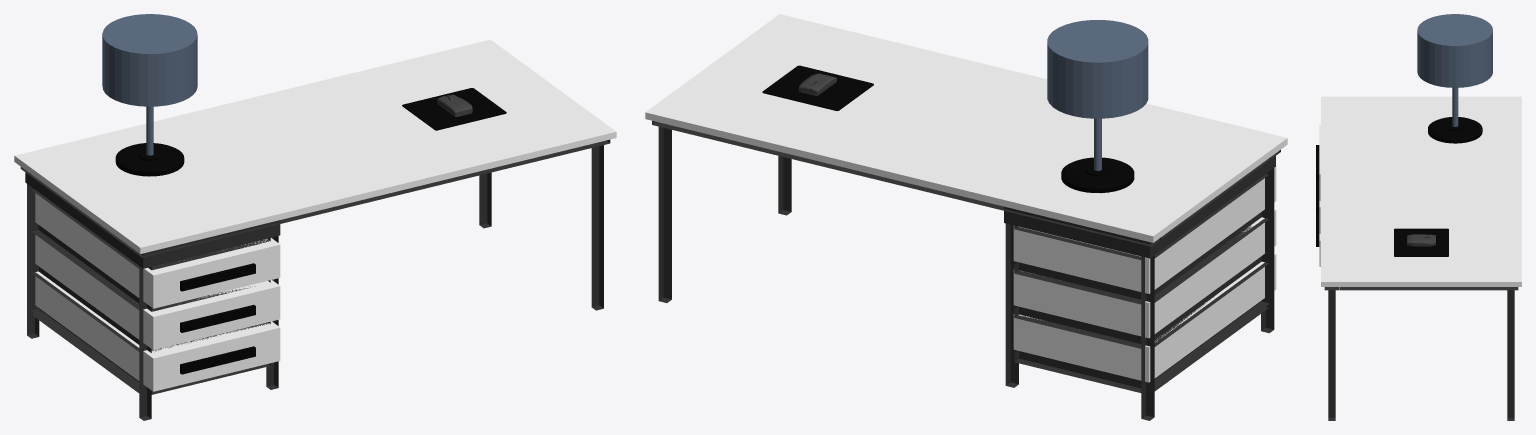
Rendered from desk.glb.
The picture shows the model from 3 angles, left to right: view 1: azimuth 30°, elevation 25°; view 2: azimuth 150°, elevation 25°; view 3: azimuth 270°, elevation 25°; orthographic projection. The views are drawn at different scales.
Parts seen in each view (by area): view 1: DeskPlate, Lamp, DeskDrawer.002, DeskDrawer.001, DeskDrawer, Cube.034, Cube.033, Cube.005, MousePad, Cube.002, Cube.008, Cube.024 (+2 smaller); view 2: DeskPlate, Lamp, DeskDrawer.002, DeskDrawer, DeskDrawer.001, Cube.034, Cube.033, Cube.006, MousePad, Cube.003, Cube.007, Cube.013 (+7 smaller); view 3: DeskPlate, Lamp, MousePad, Cube.005, Cube.006, Cube.004, Mouse, DeskDrawer.
Boxes of the visible parts, x1,y1,x2,y2 form: DeskPlate: (14, 39, 616, 253); Lamp: (102, 14, 197, 176); DeskDrawer.002: (35, 271, 280, 391); DeskDrawer.001: (35, 235, 280, 350); DeskDrawer: (35, 193, 280, 308); Cube.034: (25, 172, 280, 268); Cube.033: (30, 186, 139, 389); Cube.005: (591, 141, 603, 310); MousePad: (402, 88, 506, 130); Cube.002: (133, 139, 610, 257); Cube.008: (139, 266, 151, 420); Cube.024: (31, 230, 139, 309); DeskPlate: (645, 14, 1287, 242); Lamp: (1047, 20, 1148, 193); DeskDrawer.002: (1013, 254, 1276, 382); DeskDrawer: (1013, 166, 1276, 293); DeskDrawer.001: (1013, 209, 1276, 338); Cube.034: (1004, 156, 1275, 258); Cube.033: (1146, 171, 1270, 387); Cube.006: (658, 123, 671, 302); MousePad: (762, 65, 873, 110); Cube.003: (652, 120, 1161, 246); Cube.007: (1141, 255, 1154, 420); Cube.013: (1014, 351, 1141, 392); DeskPlate: (1321, 96, 1521, 286); Lamp: (1417, 14, 1492, 143); MousePad: (1394, 228, 1448, 256); Cube.005: (1328, 290, 1335, 420); Cube.006: (1507, 290, 1514, 420); Cube.004: (1339, 287, 1503, 290); Mouse: (1407, 234, 1435, 246); DeskDrawer: (1316, 125, 1320, 200).
Size of the model in its own units: 1.2 by 0.7411 by 0.5635.
